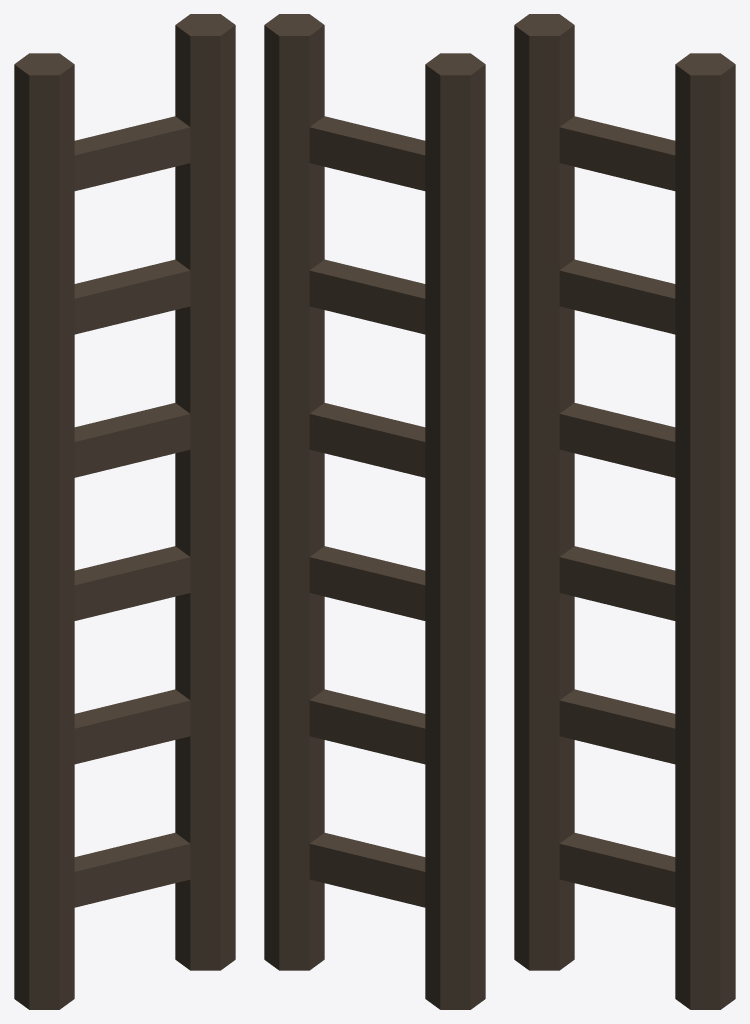
The model's file is Ladder.fbx.
3 views of the same model, side by side, from view 1: azimuth 30°, elevation 25°; view 2: azimuth 150°, elevation 25°; view 3: azimuth 330°, elevation 25° (orthographic).
Visible parts, largest first — view 1: Ladder; view 2: Ladder; view 3: Ladder.
Part boxes in pixels (<box>): Ladder: <box>14,14,235,1009</box>; Ladder: <box>264,14,485,1009</box>; Ladder: <box>514,14,735,1009</box>.
Size of the model in its own units: 50.37 by 218 by 12.77.
